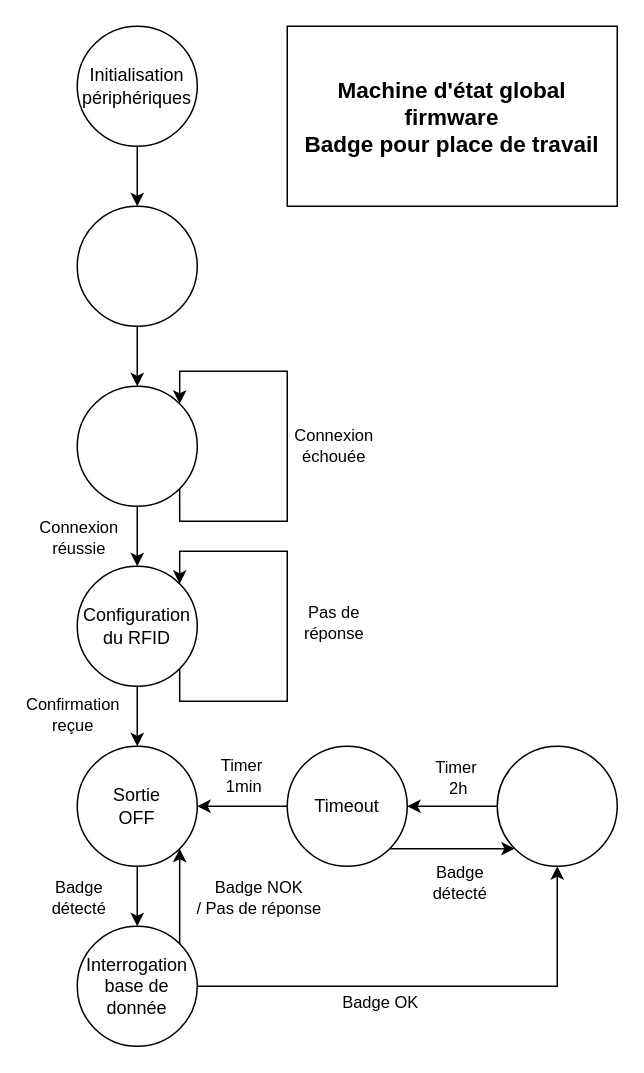
The diagram is 644 pixels wide and 1073 high, and some of its shapes have lost their labels. Here are the shapes that lost their labels. From the top down, the box of each, then its label:
(76, 205, 197, 326): Initialisation des librairies
(76, 385, 197, 506): Configuration du Wi-Fi
(496, 745, 617, 866): Sortie ON
